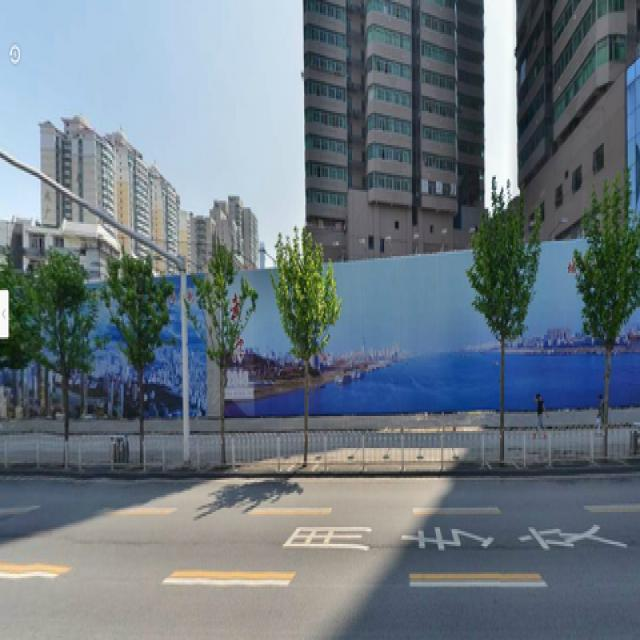meta: (471, 185, 525, 460)
